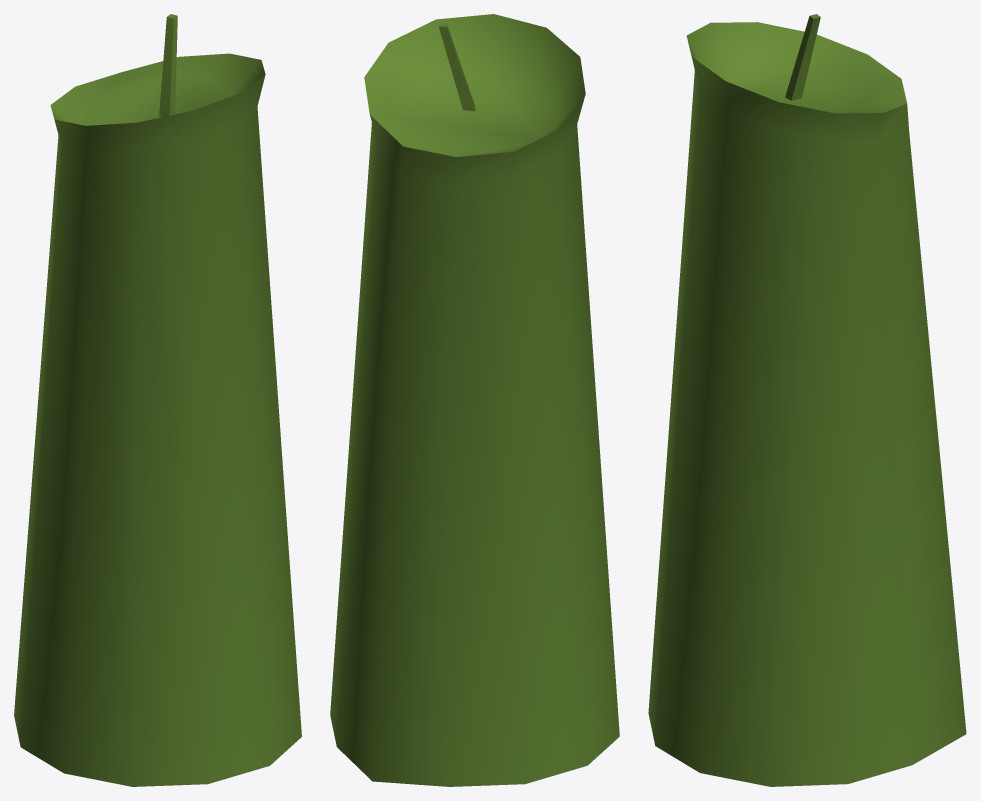
File: candle_01.FBX
The picture shows the model from 3 angles, left to right: view 1: azimuth 30°, elevation 25°; view 2: azimuth 150°, elevation 25°; view 3: azimuth 270°, elevation 25°; orthographic projection. The views are drawn at different scales.
Visible parts, largest first — view 1: candles_01; view 2: candles_01; view 3: candles_01.
Boxes of the visible parts, x1=… form: candles_01: x1=14, y1=14, x2=301, y2=786; candles_01: x1=330, y1=14, x2=619, y2=786; candles_01: x1=648, y1=14, x2=966, y2=786.
Bounding box in the file's own units: 7.59 × 20.28 × 8.13.
